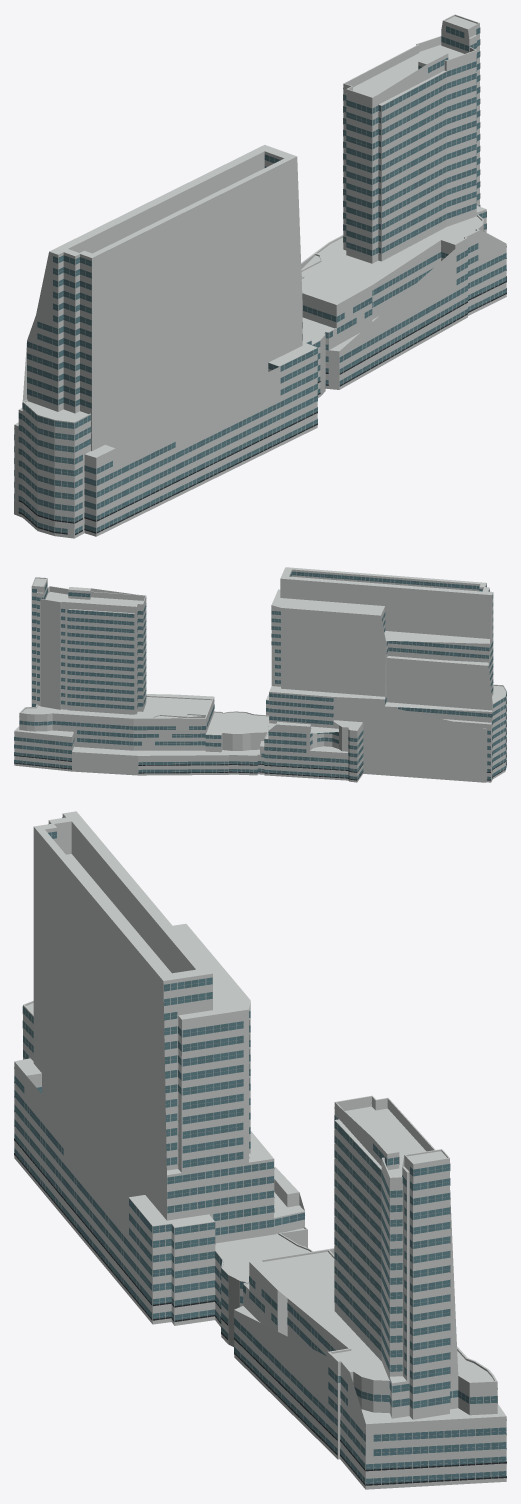
File: mark-city.glb
3 renders of one model, top to bottom at view 1: azimuth 30°, elevation 25°; view 2: azimuth 150°, elevation 25°; view 3: azimuth 270°, elevation 25°, orthographic. The views are drawn at different scales.
Visible parts, largest first — view 1: mark-city_wall, mark-city_roof, mark-city_glass0, mark-city_glass1, mark-city_glass2, mark-city_spandrel, mark-city_frame, mark-city_sign_housing; view 2: mark-city_wall, mark-city_roof, mark-city_glass1, mark-city_glass2, mark-city_glass0, mark-city_spandrel, mark-city_frame, mark-city_sign_housing; view 3: mark-city_wall, mark-city_roof, mark-city_glass1, mark-city_glass2, mark-city_glass0, mark-city_spandrel, mark-city_frame, mark-city_sign_housing.
Part boxes in pixels (x1=…): mark-city_wall: x1=14, y1=15, x2=506, y2=538; mark-city_roof: x1=14, y1=14, x2=500, y2=457; mark-city_glass0: x1=14, y1=27, x2=506, y2=533; mark-city_glass1: x1=14, y1=26, x2=502, y2=531; mark-city_glass2: x1=14, y1=29, x2=506, y2=534; mark-city_spandrel: x1=14, y1=33, x2=506, y2=536; mark-city_frame: x1=19, y1=27, x2=506, y2=535; mark-city_sign_housing: x1=18, y1=281, x2=506, y2=534; mark-city_wall: x1=14, y1=569, x2=506, y2=782; mark-city_roof: x1=14, y1=567, x2=506, y2=755; mark-city_glass1: x1=14, y1=572, x2=506, y2=780; mark-city_glass2: x1=14, y1=571, x2=506, y2=778; mark-city_glass0: x1=14, y1=572, x2=506, y2=779; mark-city_spandrel: x1=14, y1=575, x2=506, y2=781; mark-city_frame: x1=17, y1=573, x2=504, y2=779; mark-city_sign_housing: x1=14, y1=755, x2=506, y2=780; mark-city_wall: x1=14, y1=813, x2=506, y2=1489; mark-city_roof: x1=14, y1=811, x2=505, y2=1424; mark-city_glass1: x1=14, y1=831, x2=506, y2=1483; mark-city_glass2: x1=14, y1=817, x2=506, y2=1484; mark-city_glass0: x1=14, y1=979, x2=506, y2=1485; mark-city_spandrel: x1=14, y1=838, x2=506, y2=1486; mark-city_frame: x1=14, y1=817, x2=505, y2=1484; mark-city_sign_housing: x1=14, y1=1139, x2=506, y2=1485.
Bounding box in the file's own units: 256 × 112 × 151.
